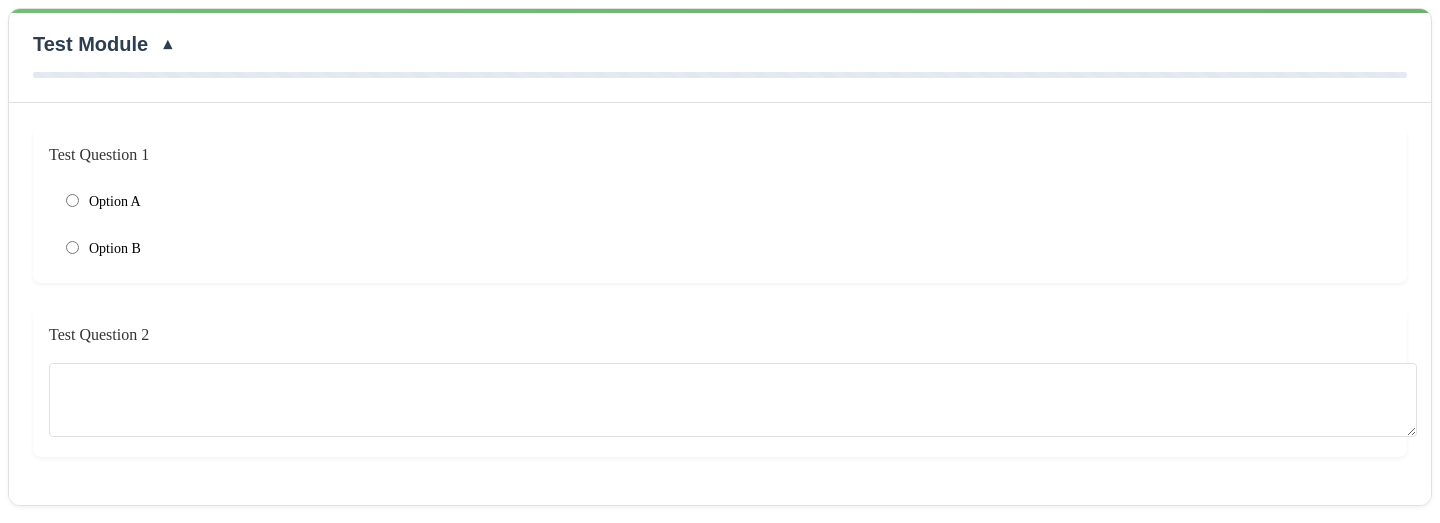
QuestionModule › module expansion/collapse › collapses when header is clicked
What coordinates should you click on to do the following:
click the button
I would click on:
 (91, 44)
Its box is [9,9,1431,102].
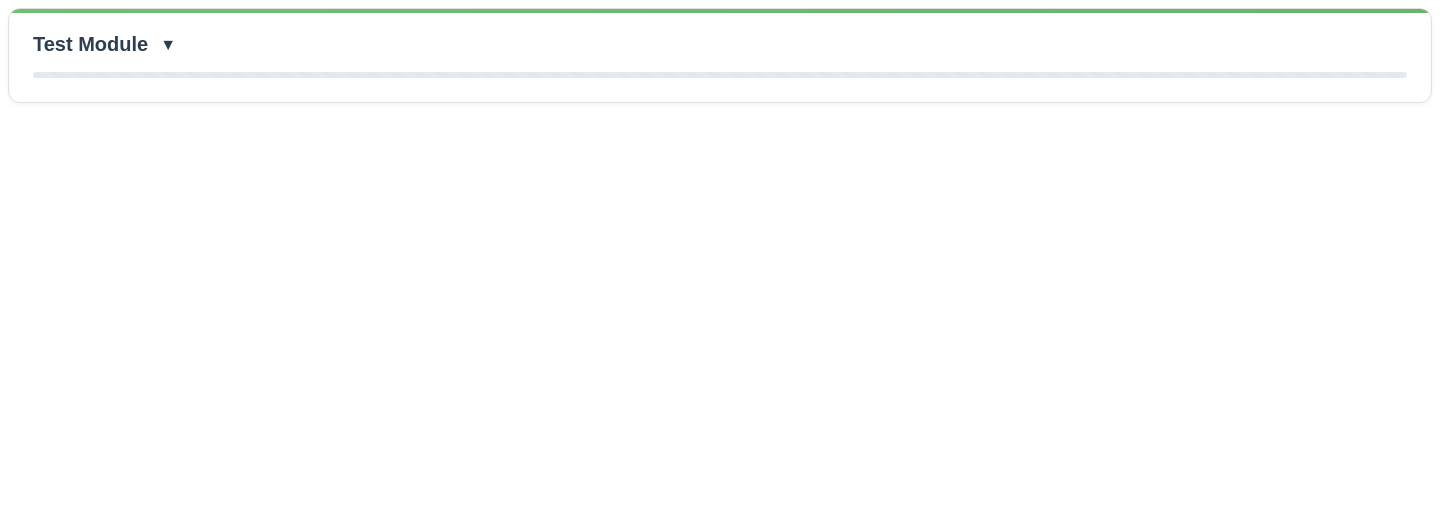
expect the button is collapsed: met, box [9,9,1431,102]
